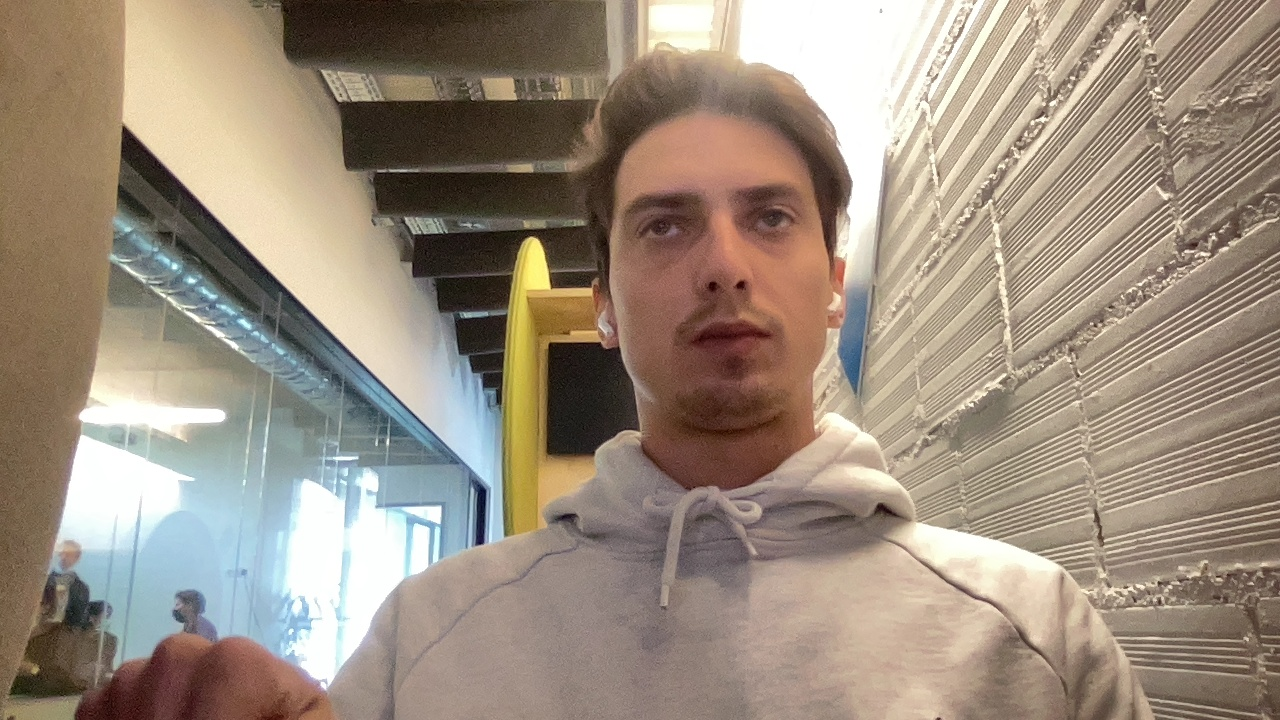no: (63, 626, 372, 718)
